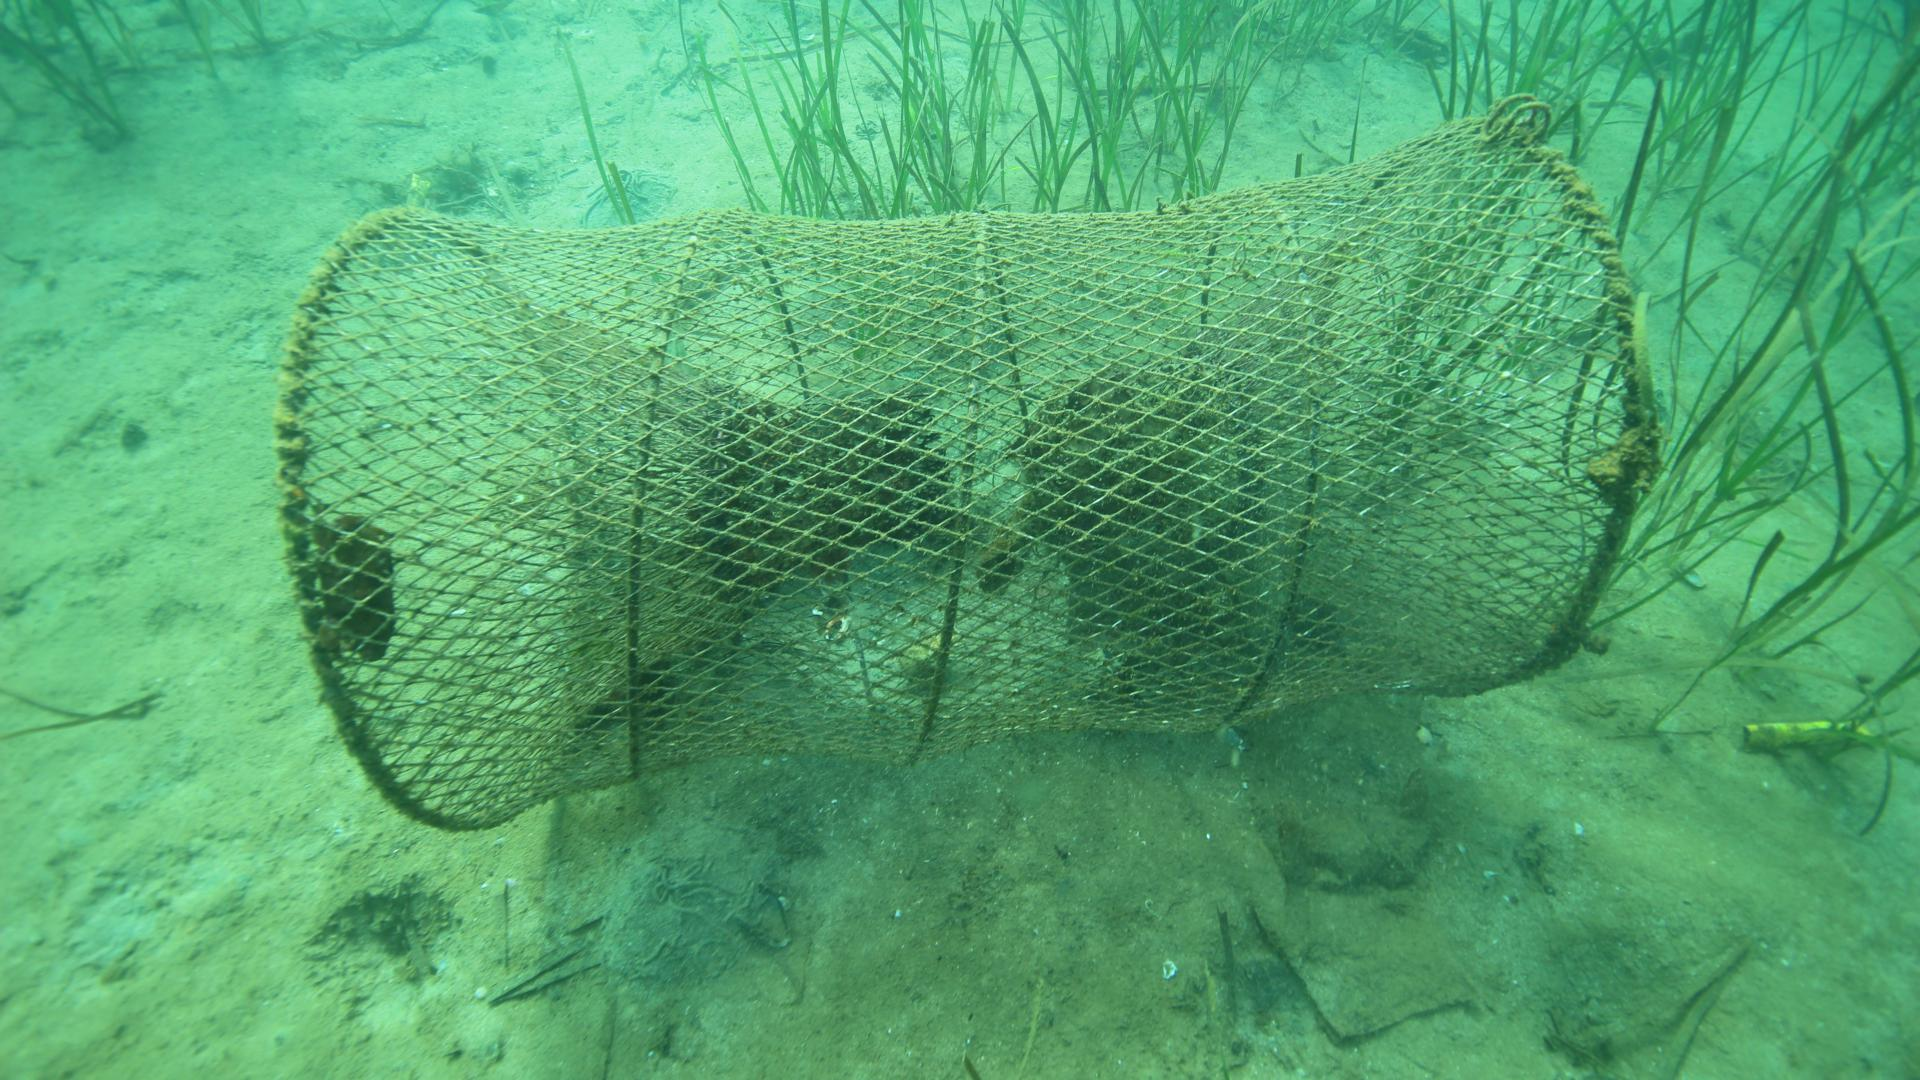spring fish trap: (266, 98, 1652, 827)
